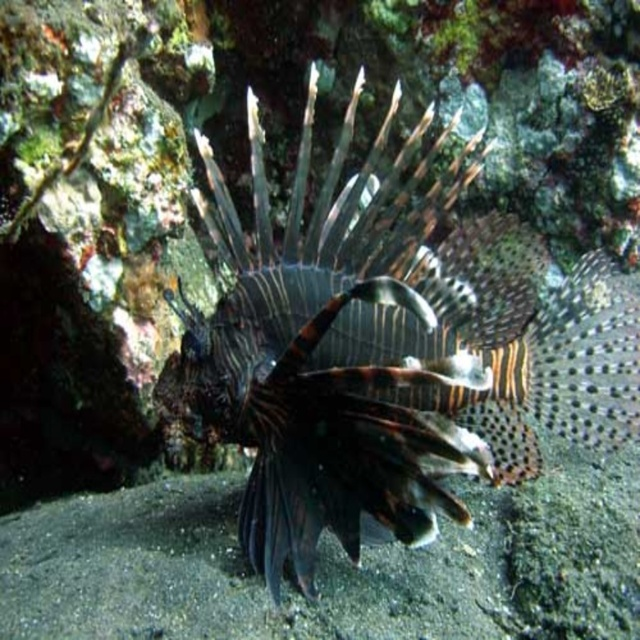Fish: (150, 60, 640, 607)
